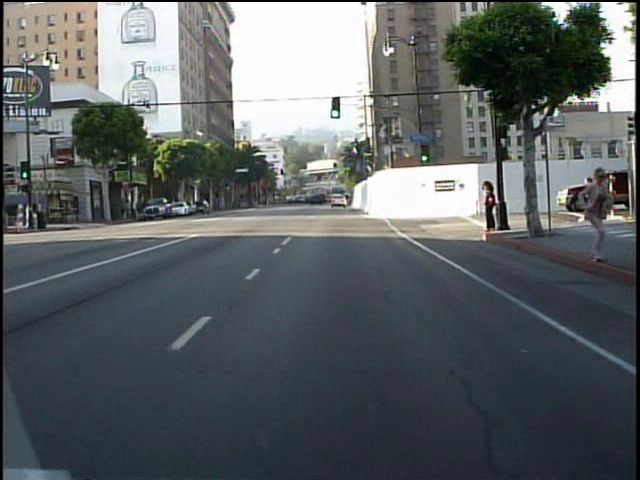person: (479, 179, 499, 236)
